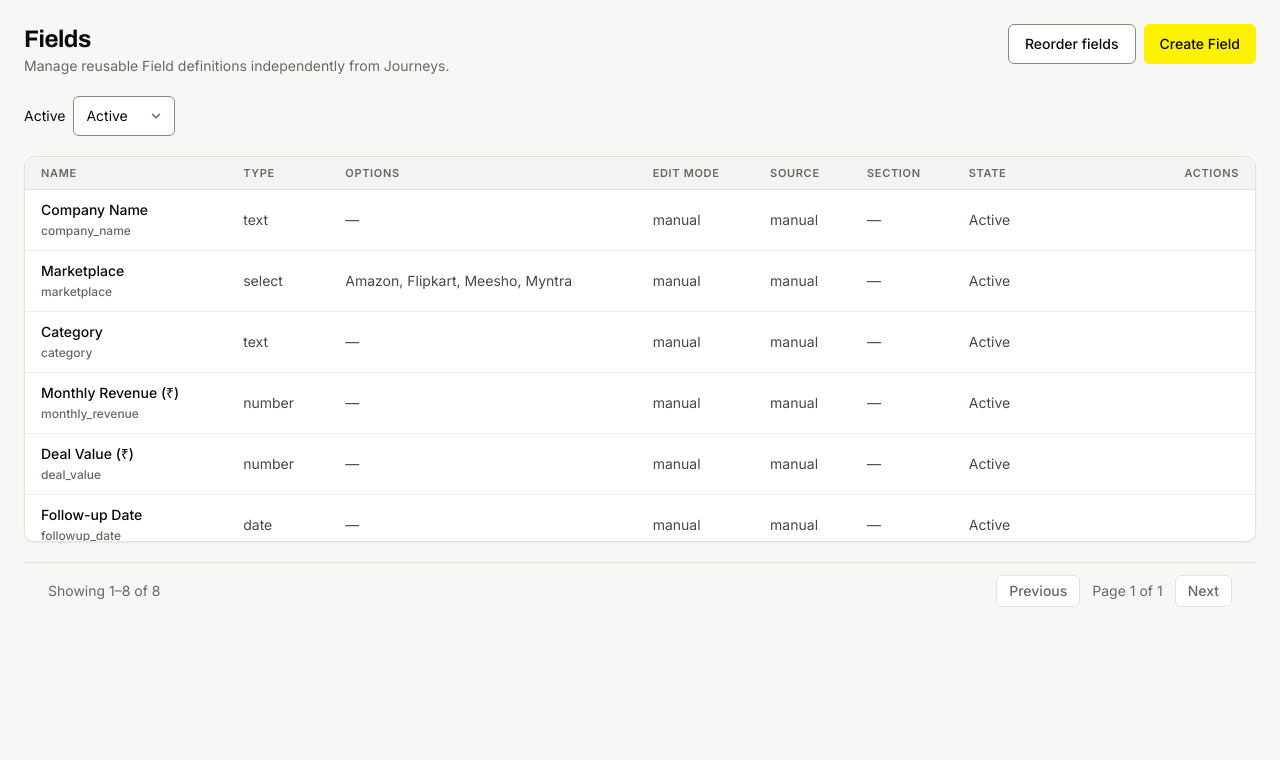
administration resource flows › rejects a calculated Field of an unsupported type before it ever reaches the server
This screenshot has width=1280, height=760.
Click the button "Create Field": (1200, 44) [1144,24,1256,64]
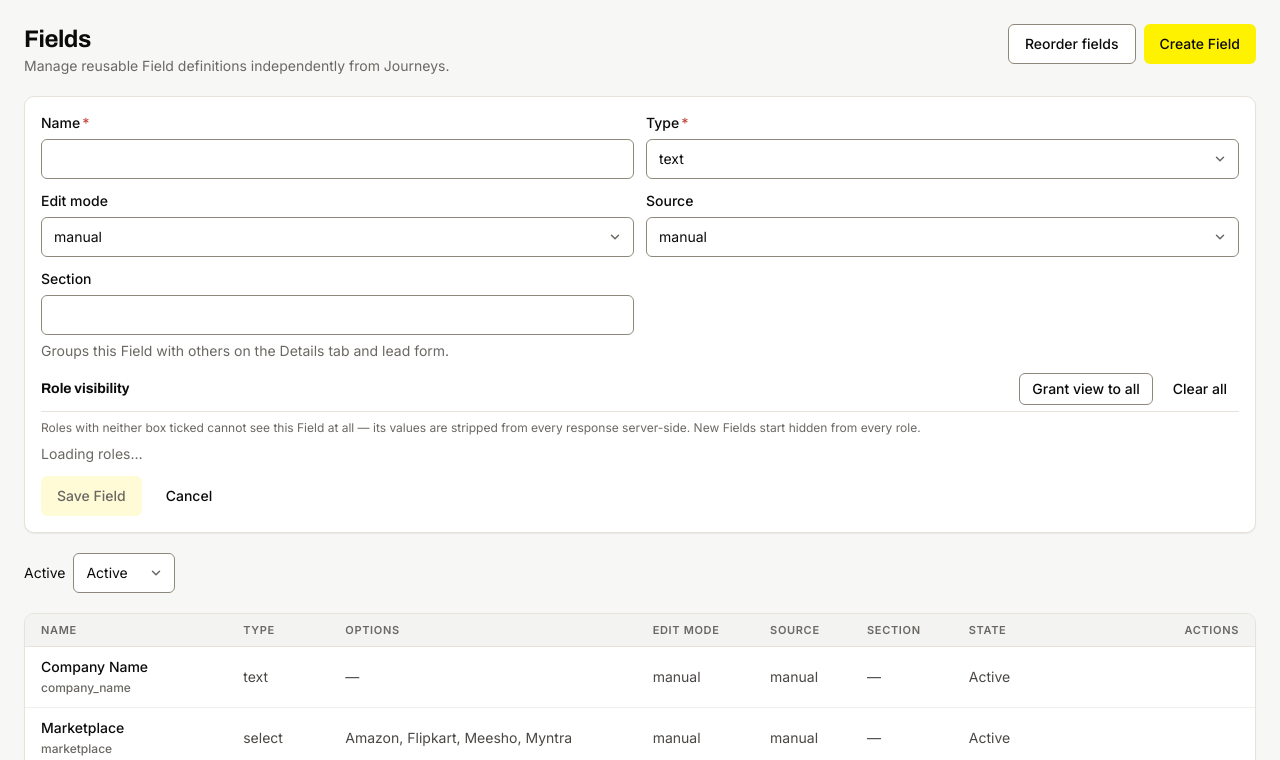
In the field labelled "Name*": (338, 159) [41,139,634,179], type "Synthetic Bad Calc"
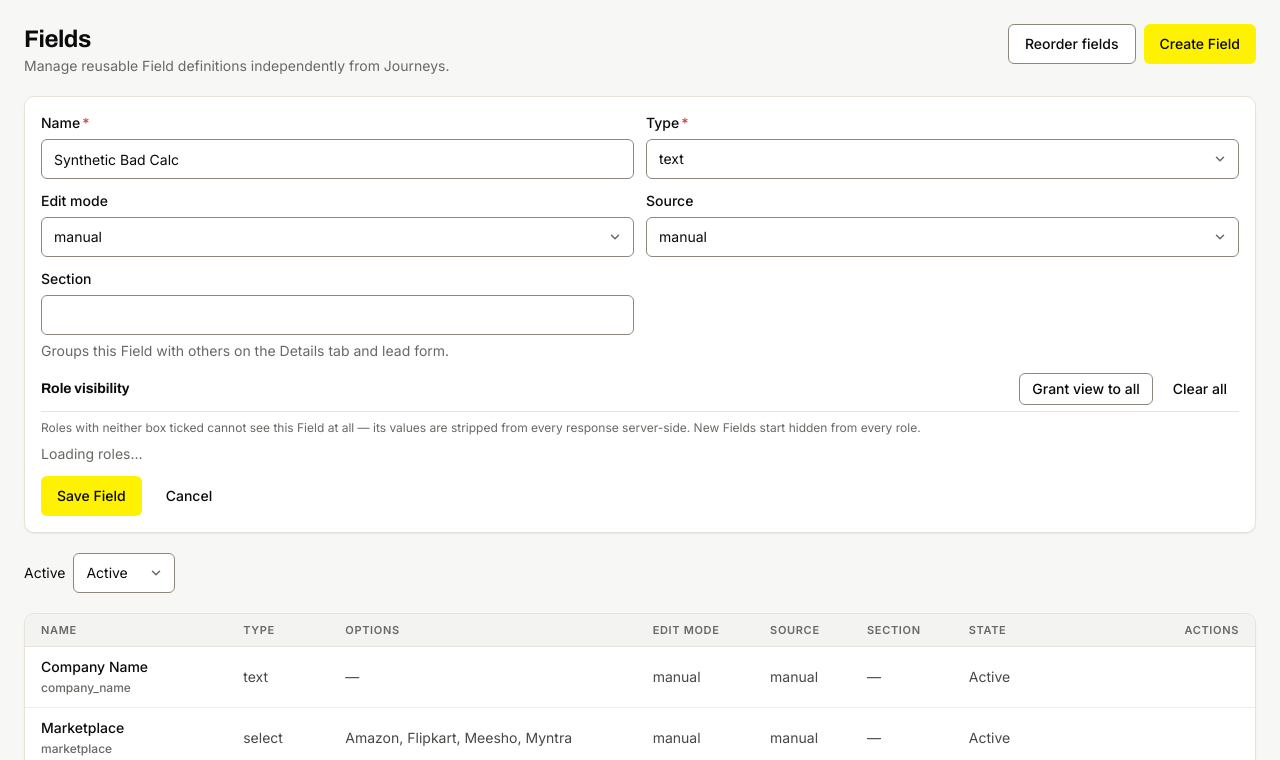
Select "boolean" in the dropdown labelled "Type*": (942, 159) [646,139,1239,179]
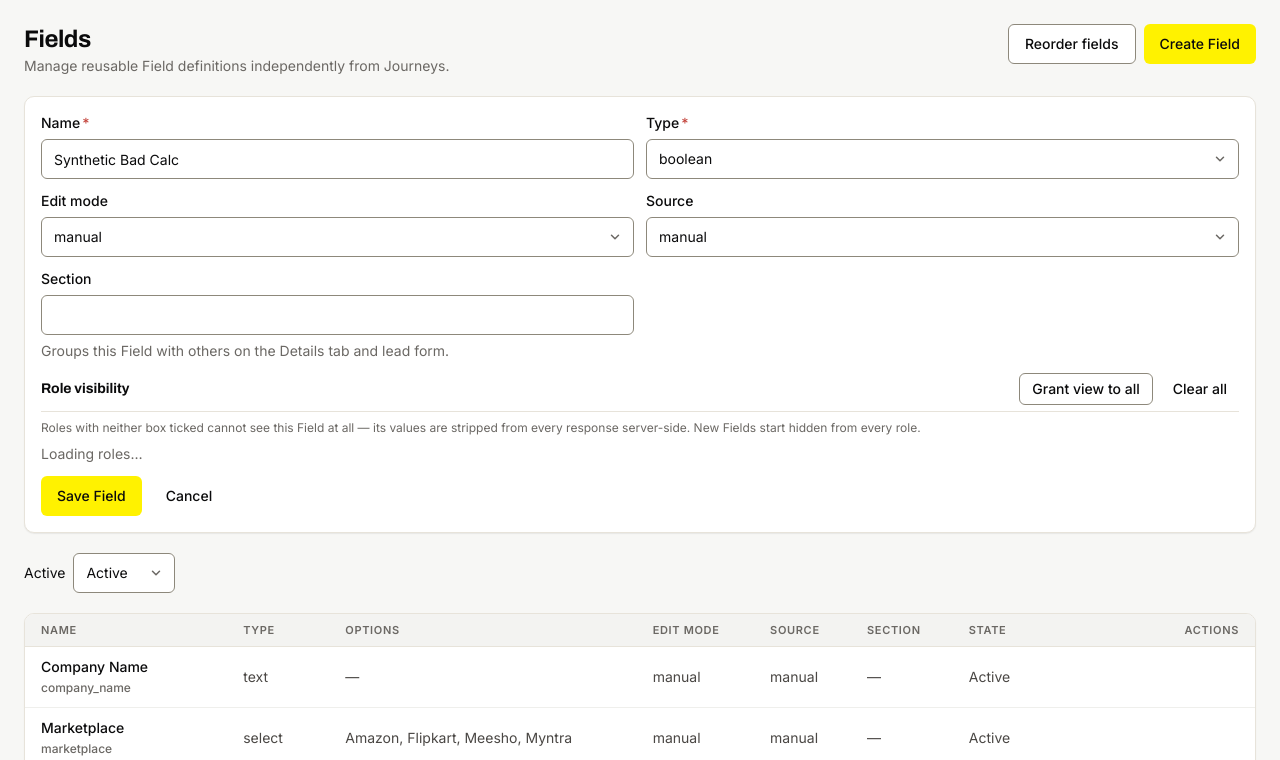
Select "calculated" in the dropdown labelled "Edit mode": (338, 237) [41,217,634,257]
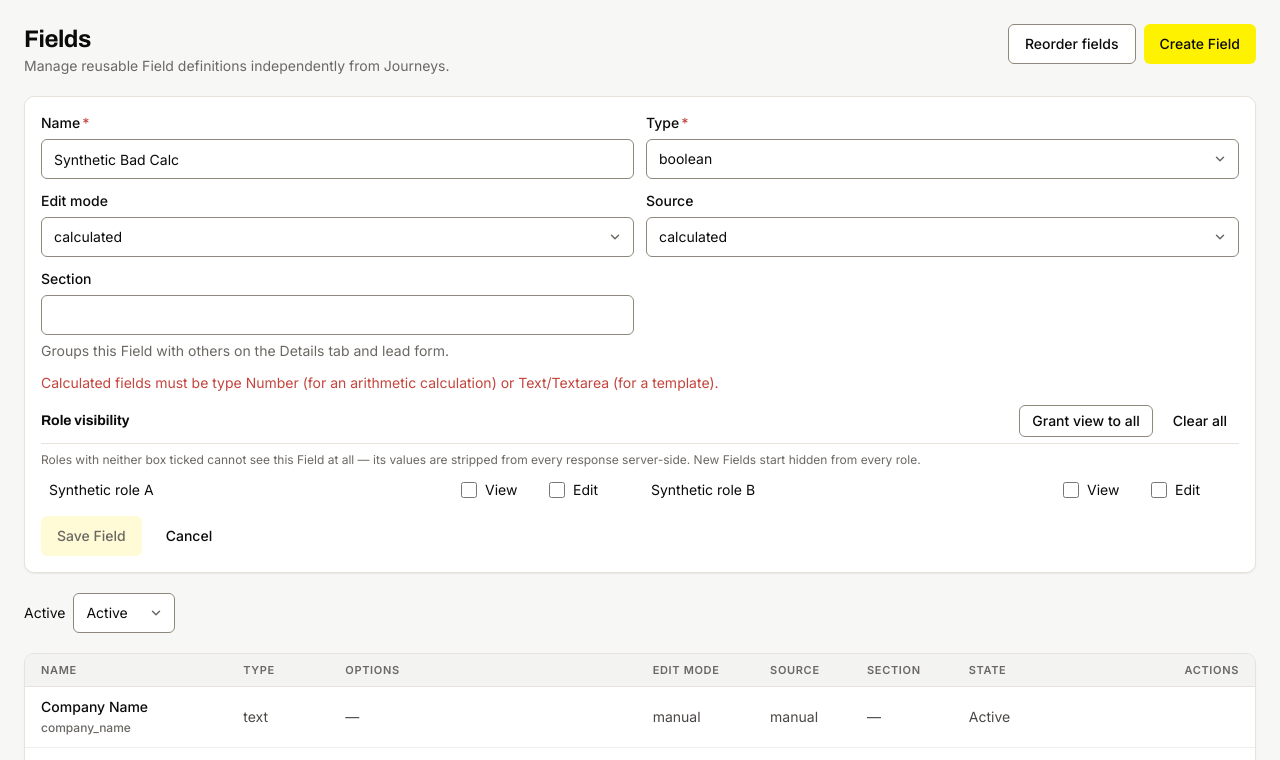
Expected: the button "Save Field" is disabled, [41,516,142,556]
